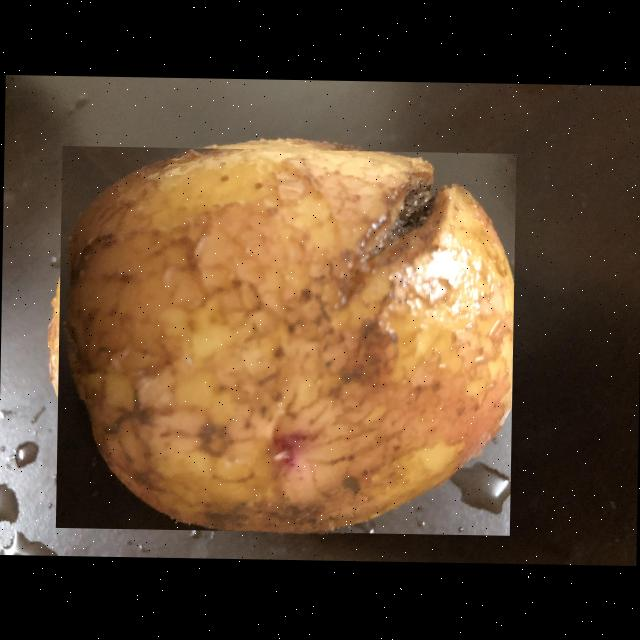Damaged potato: (54, 145, 515, 536)
